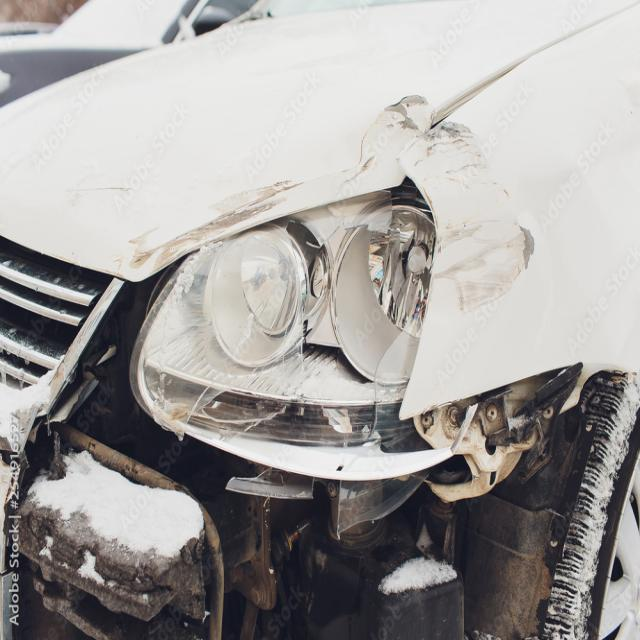Head Light: (134, 193, 492, 484)
